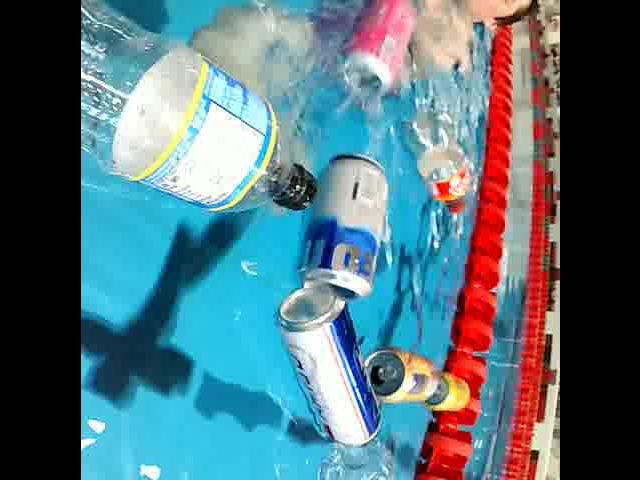Bottle: (80, 0, 326, 223), (405, 103, 473, 219), (321, 436, 409, 480)
Can: (272, 286, 382, 450), (288, 151, 390, 306), (333, 0, 421, 108), (362, 344, 436, 406), (422, 370, 472, 416)
